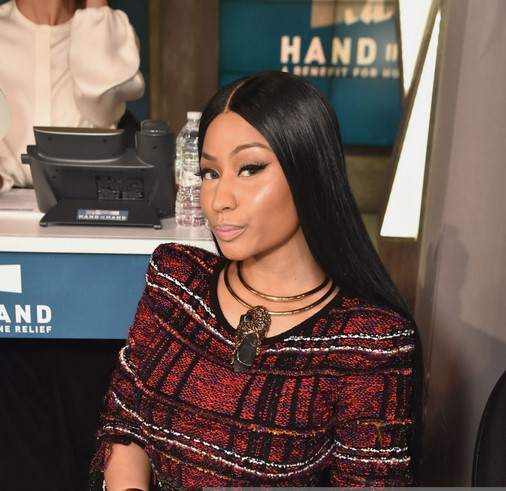face_no_mask: (198, 73, 320, 265)
